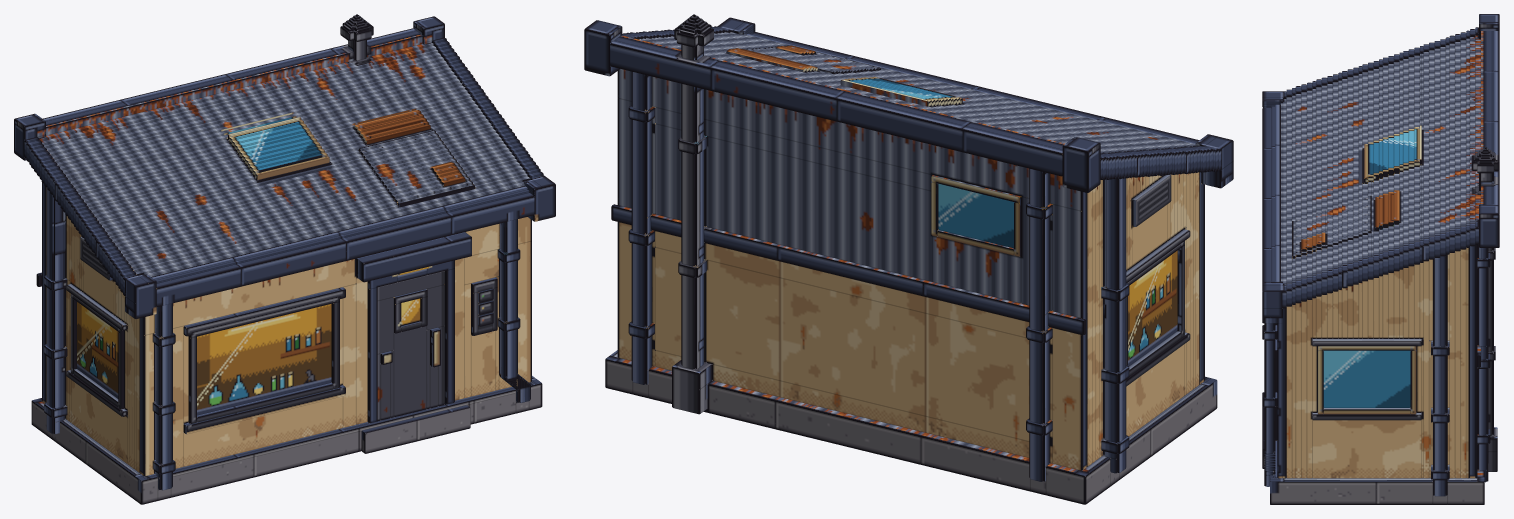
The model's file is casa_laboratorio.obj.
The picture shows the model from 3 angles, left to right: view 1: azimuth 30°, elevation 25°; view 2: azimuth 150°, elevation 25°; view 3: azimuth 270°, elevation 25°; orthographic projection. The views are drawn at different scales.
Parts seen in each view (by area): view 1: casa_laboratorio; view 2: casa_laboratorio; view 3: casa_laboratorio.
Part boxes in pixels (x1,y1,x2,y2): casa_laboratorio: (14,14,555,504); casa_laboratorio: (584,14,1233,504); casa_laboratorio: (1262,14,1499,504).
Bounding box in the file's own units: 8 × 6 × 4.
Materials: 1 (1 with a texture image).
